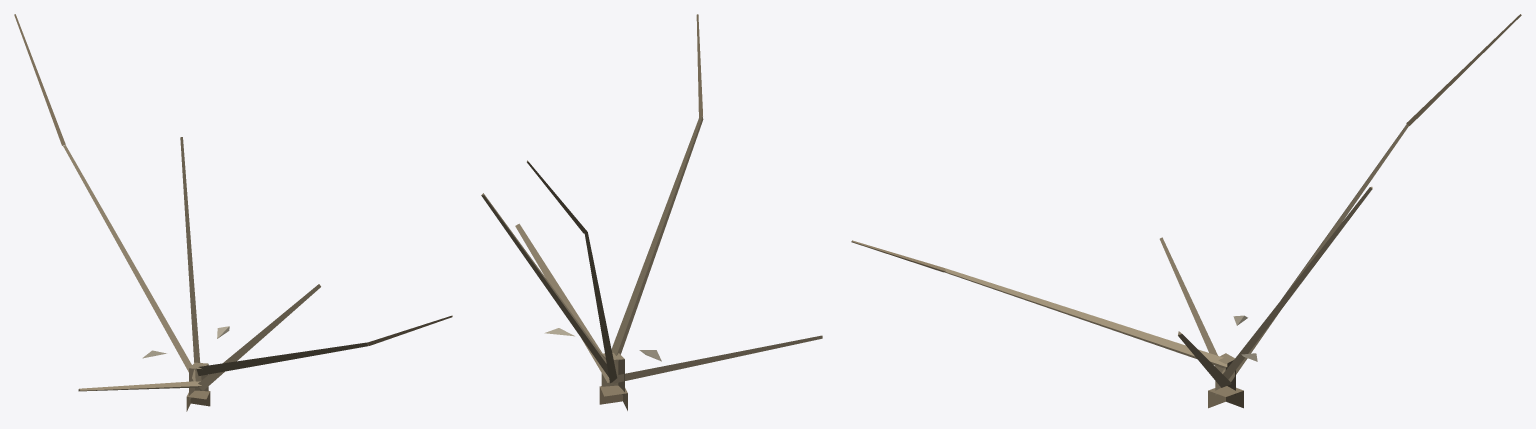
File: shu.lengshan@withered__winter.glb
3 renders of one model, left to right at view 1: azimuth 30°, elevation 25°; view 2: azimuth 150°, elevation 25°; view 3: azimuth 270°, elevation 25°, orthographic. The views are drawn at different scales.
Visible parts, largest first — view 1: shu.lengshan@withered__winter; view 2: shu.lengshan@withered__winter; view 3: shu.lengshan@withered__winter.
Part boxes in pixels (bbox=[...]): shu.lengshan@withered__winter: bbox=[14, 14, 452, 411]; shu.lengshan@withered__winter: bbox=[481, 14, 822, 410]; shu.lengshan@withered__winter: bbox=[851, 14, 1521, 408].
Bounding box in the file's own units: 5.41 × 6.53 × 10.92.
